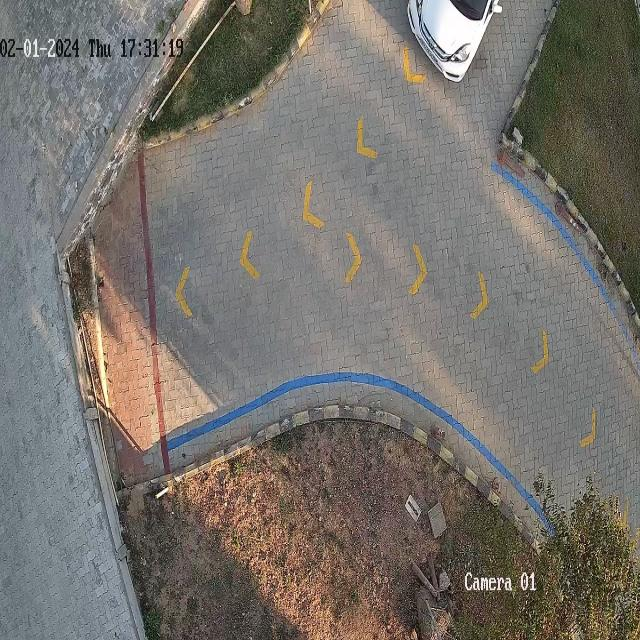car: (408, 0, 502, 81)
